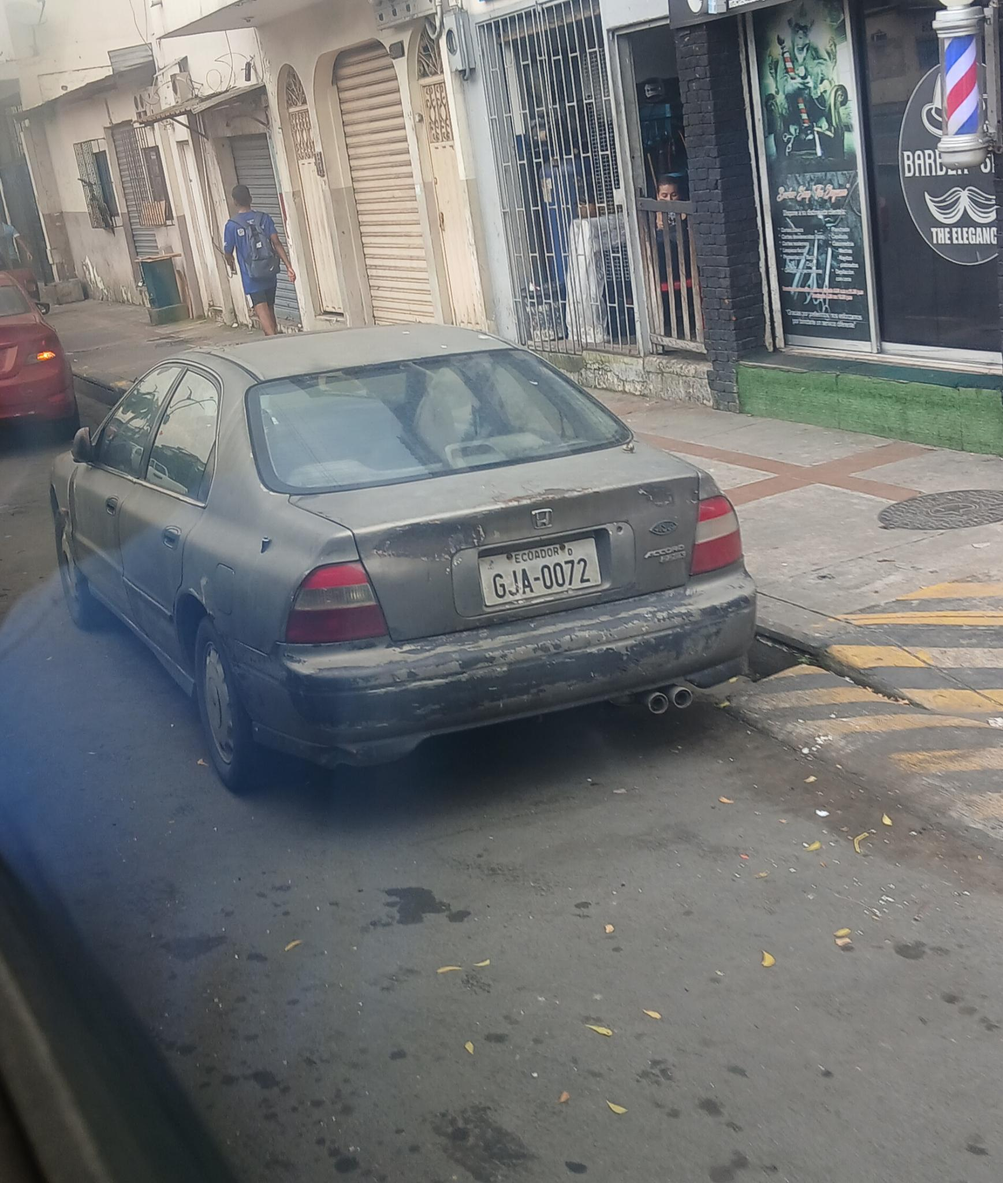license_plate: (478, 536, 598, 607)
